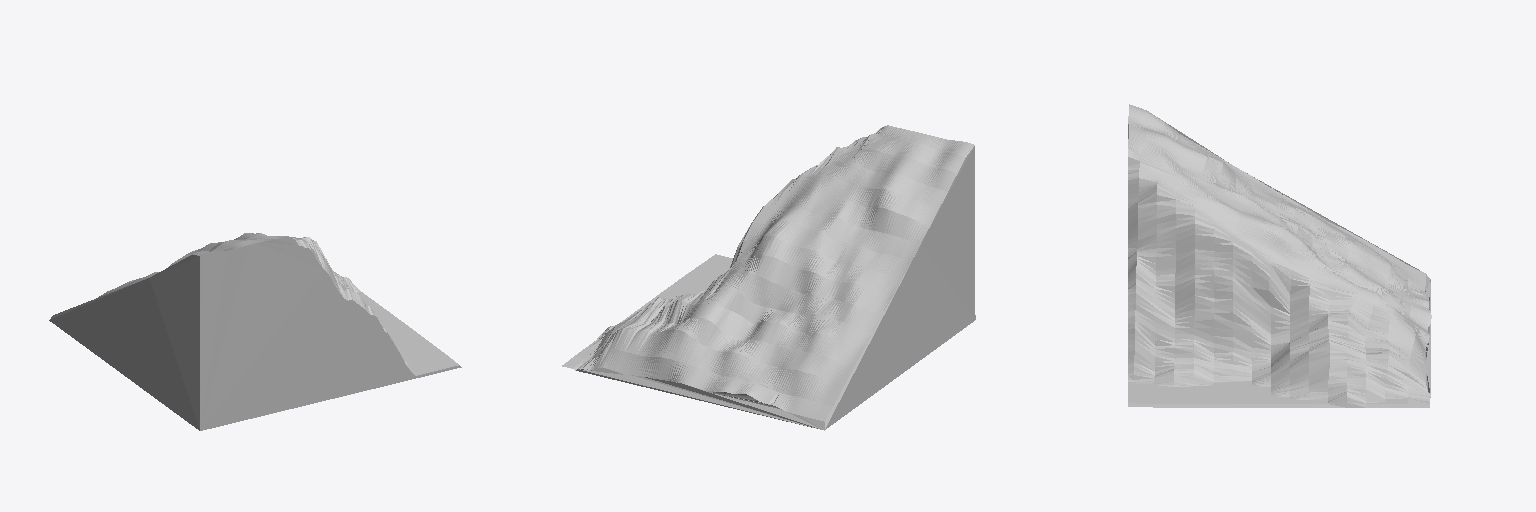
File: B6Cliff.obj
The picture shows the model from 3 angles: view 1: azimuth 30°, elevation 25°; view 2: azimuth 150°, elevation 25°; view 3: azimuth 270°, elevation 25°; orthographic projection.
Visible parts, largest first — view 1: Cliff_Segment_6_Landscape.001; view 2: Cliff_Segment_6_Landscape.001; view 3: Cliff_Segment_6_Landscape.001.
Part boxes in pixels (bbox=[...]): Cliff_Segment_6_Landscape.001: bbox=[49, 233, 461, 430]; Cliff_Segment_6_Landscape.001: bbox=[562, 125, 975, 430]; Cliff_Segment_6_Landscape.001: bbox=[1128, 104, 1431, 407].
Size of the model in its own units: 2.01 by 1.29 by 2.01.